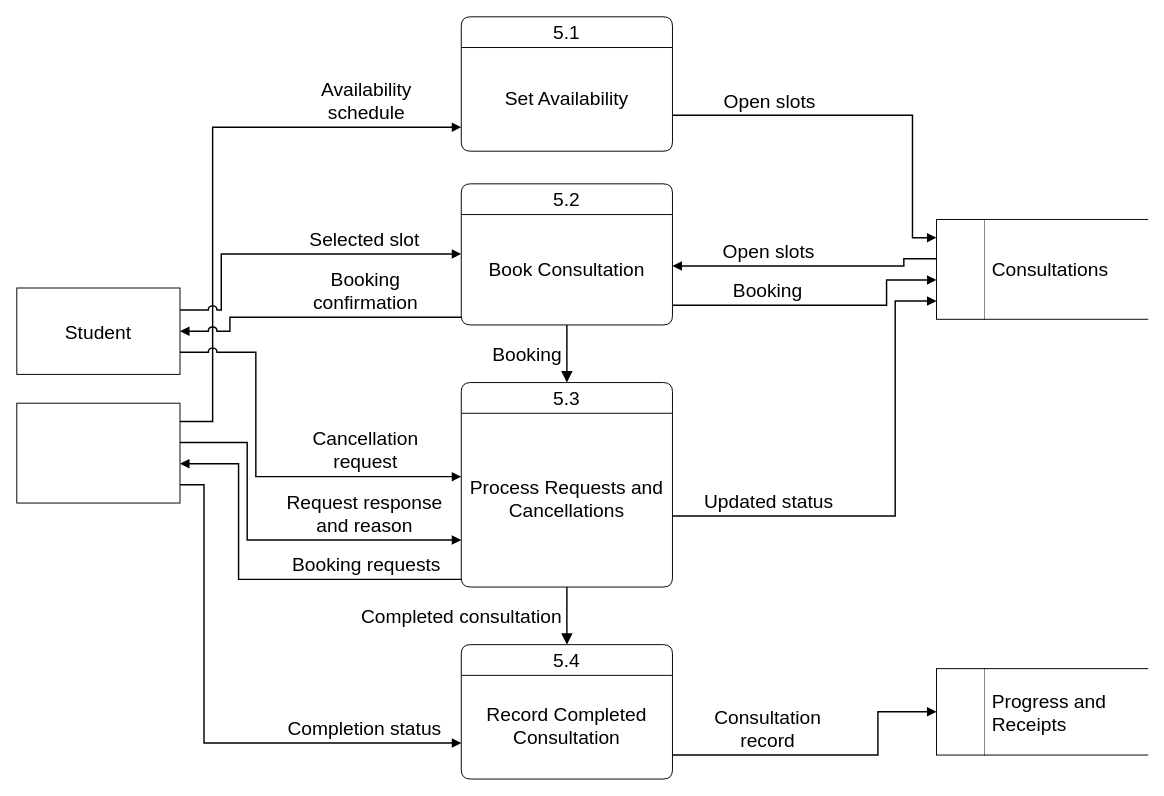
This 1164x796 diagram has some shape labels left out. The box of each missing label's shape, as (x1, y1, x2, y2) in pixels:
Capstone Expert: (16, 402, 180, 503)
D6: (936, 218, 984, 319)
D8: (936, 668, 984, 755)
